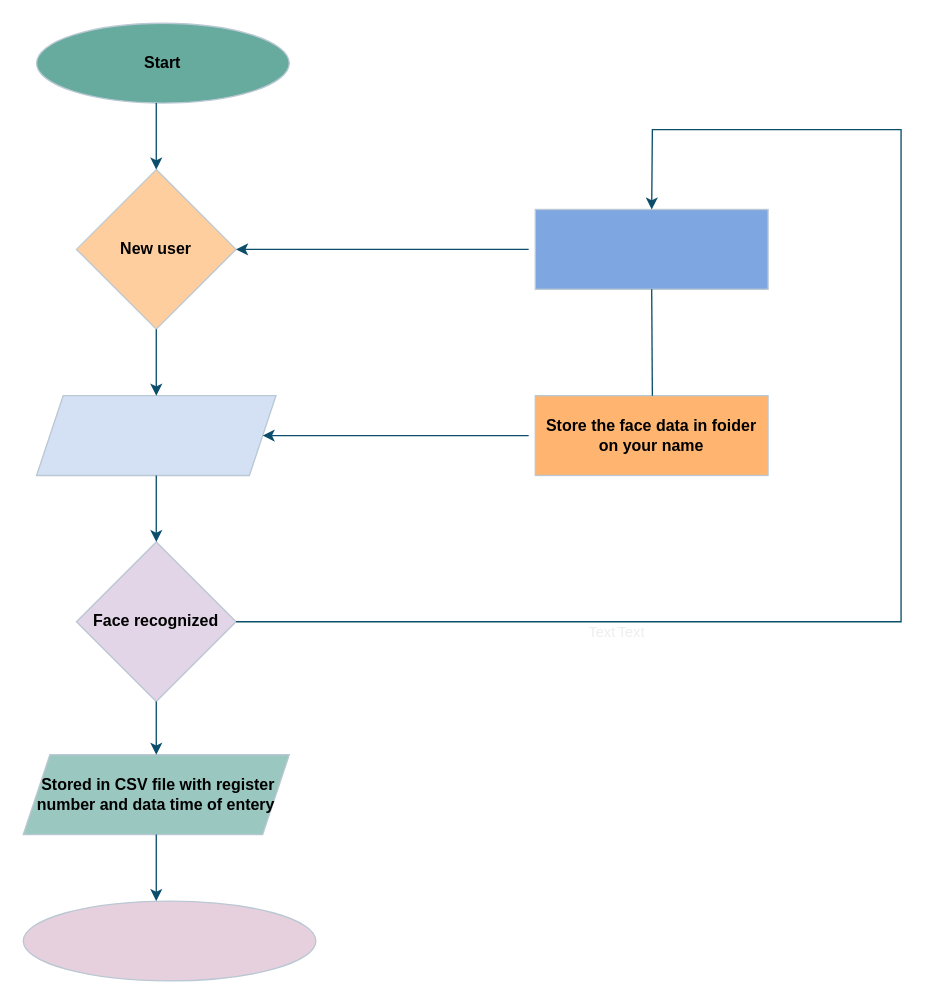
Some shapes in this 935 by 1004 pixel diagram are drawn without their labels. The shapes that lost their labels are listed below. From the top down, each one's centre as x and y in pixels, then its label:
the point at 651,248: Give your photograph
the point at 155,434: Recognize the face
the point at 169,940: End
